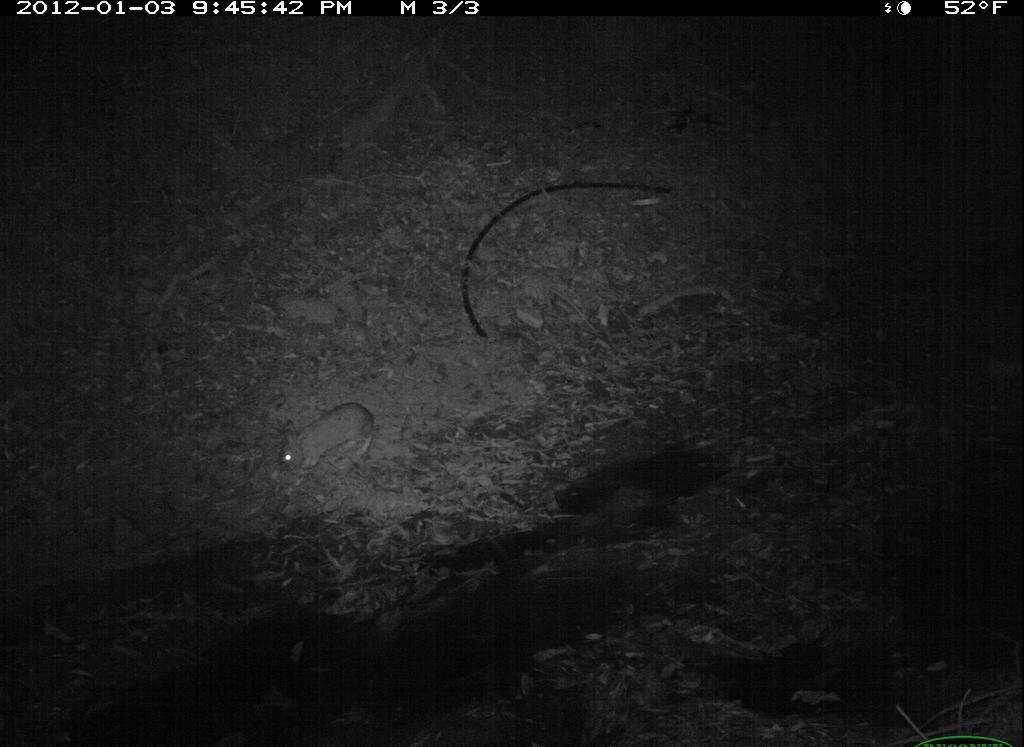rabbit: (274, 399, 382, 479)
